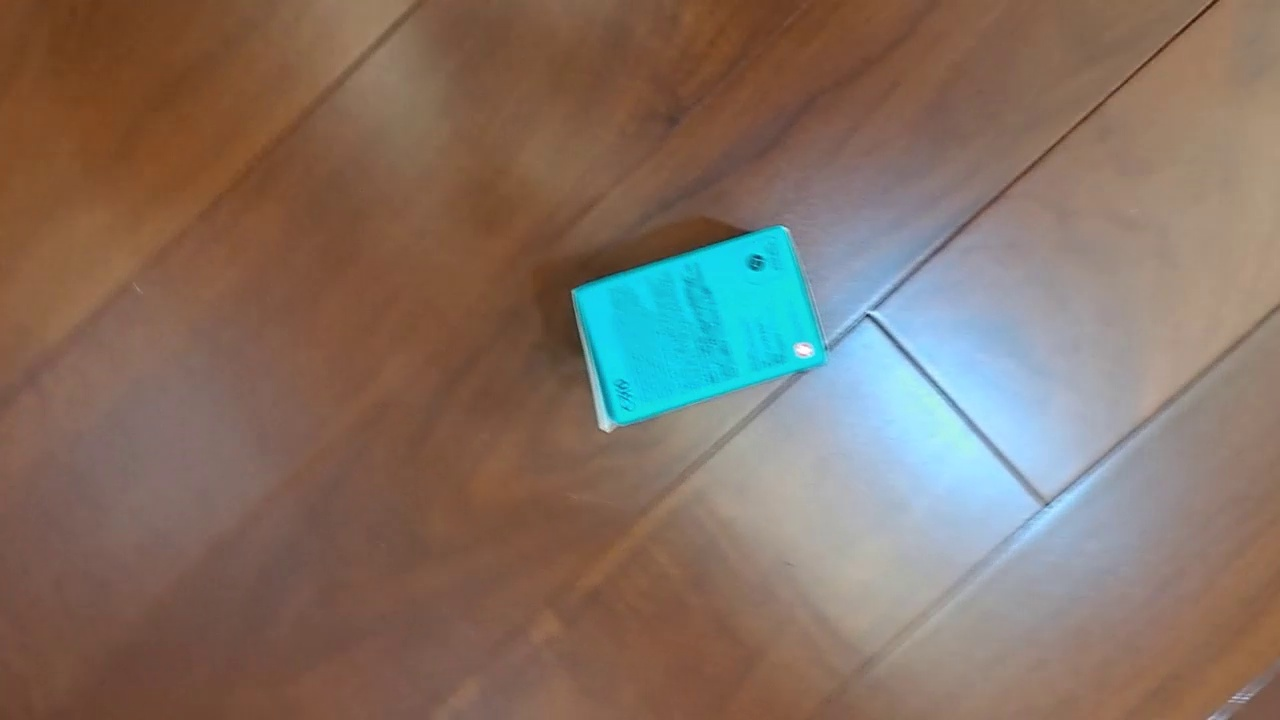webcam: (570, 223, 832, 434)
